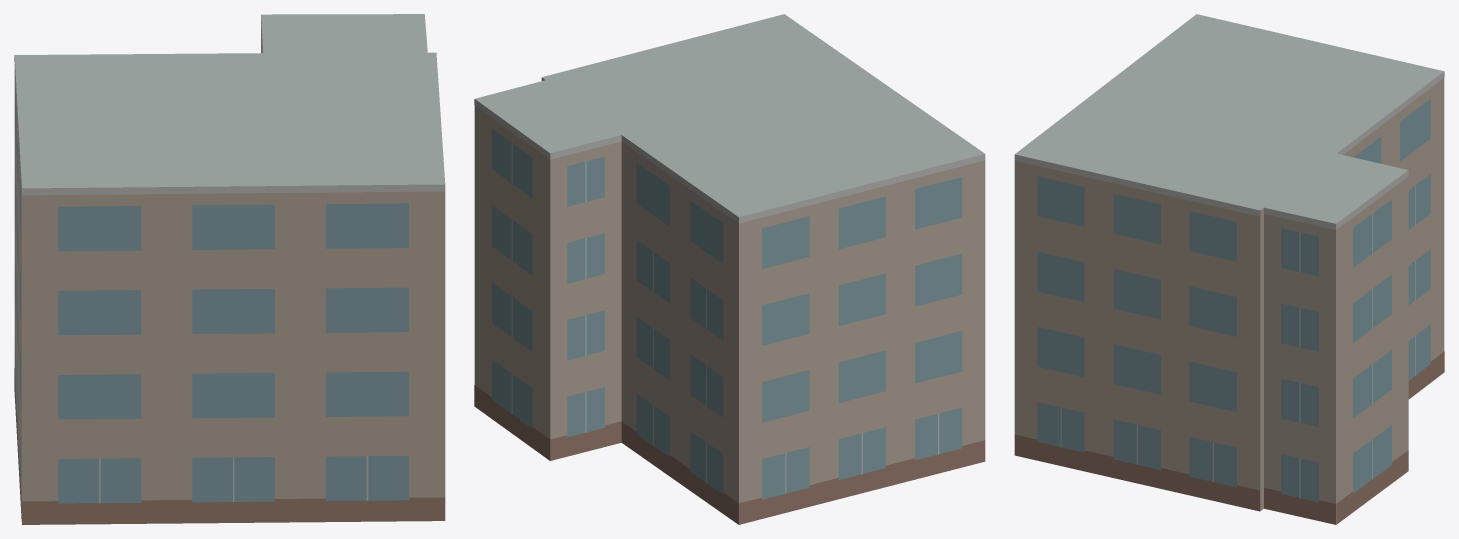
File: survey-upis-32694923.glb
3 renders of one model, left to right at view 1: azimuth 30°, elevation 25°; view 2: azimuth 150°, elevation 25°; view 3: azimuth 270°, elevation 25°, orthographic. The views are drawn at different scales.
Visible parts, largest first — view 1: survey-upis-32694923.tmp; view 2: survey-upis-32694923.tmp; view 3: survey-upis-32694923.tmp.
Boxes of the visible parts, x1,y1,x2,y2 form: survey-upis-32694923.tmp: [14, 14, 445, 524]; survey-upis-32694923.tmp: [474, 14, 985, 524]; survey-upis-32694923.tmp: [1014, 14, 1444, 524].
Size of the model in its own units: 17.68 by 11.82 by 15.31.
